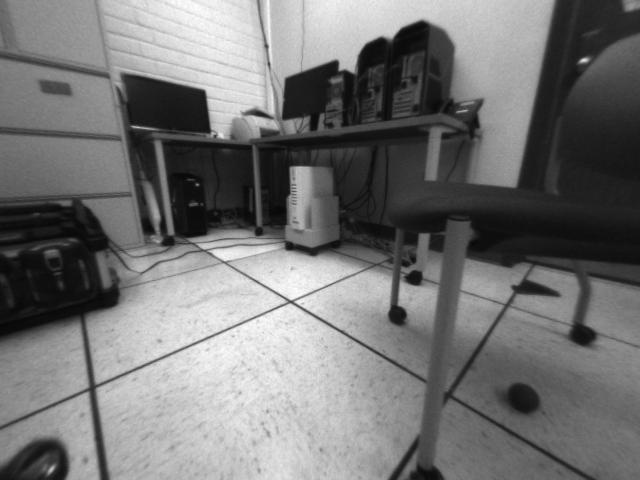dogtoy: (502, 374, 549, 416)
